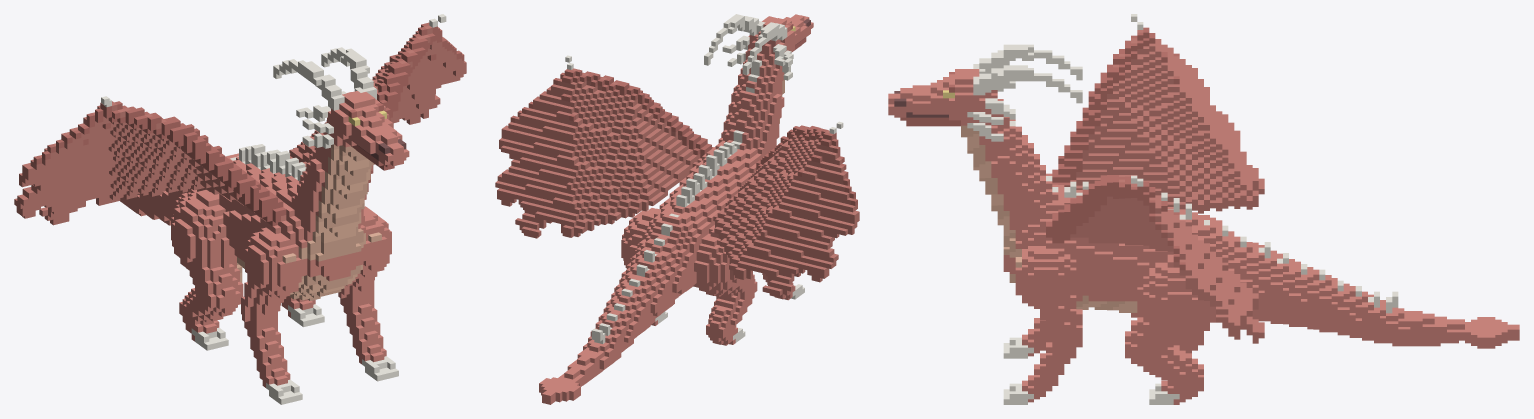
Rendered from dragon_young.glb.
3 views of the same model, side by side, from view 1: azimuth 30°, elevation 25°; view 2: azimuth 150°, elevation 25°; view 3: azimuth 270°, elevation 25° (orthographic). The views are drawn at different scales.
Parts seen in each view (by area): view 1: item; view 2: item; view 3: item.
Part boxes in pixels (box(x1,y1,x2,y2)): item: box(14, 14, 466, 404); item: box(495, 14, 859, 404); item: box(888, 14, 1519, 404).
Size of the model in its own units: 82 by 58 by 104.
